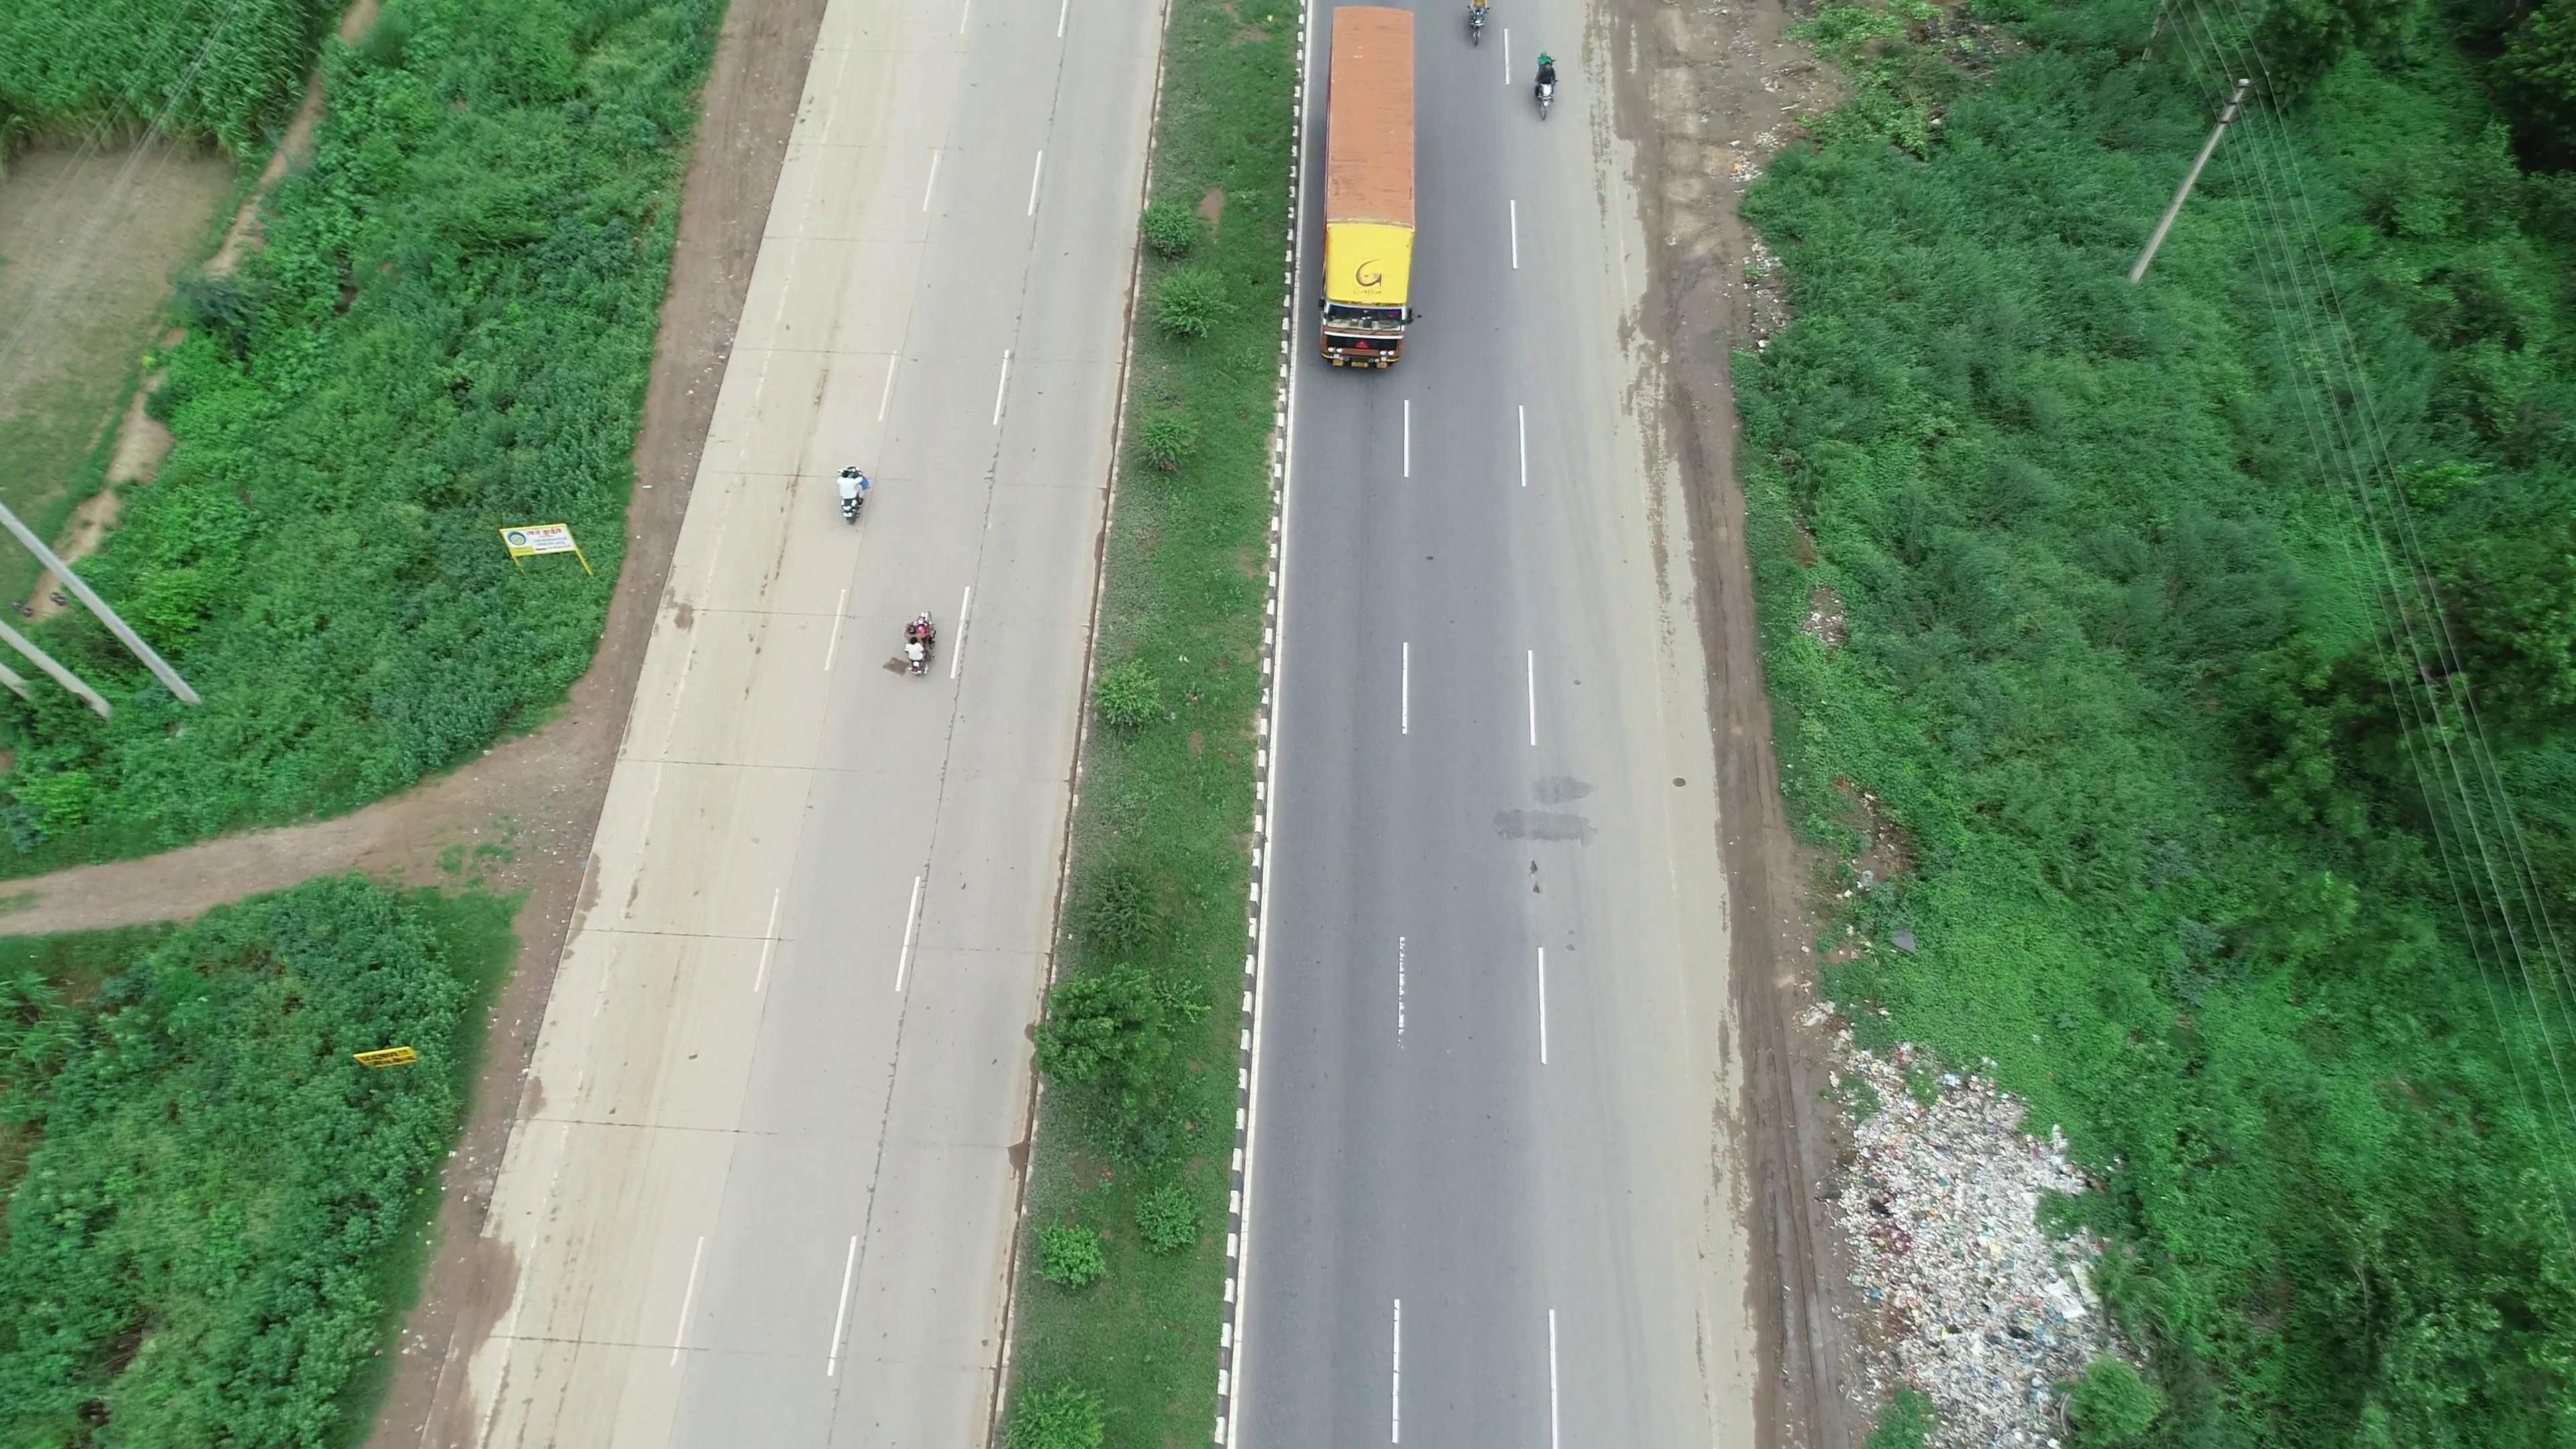Road_side_garbage: (1787, 991, 2098, 1426)
